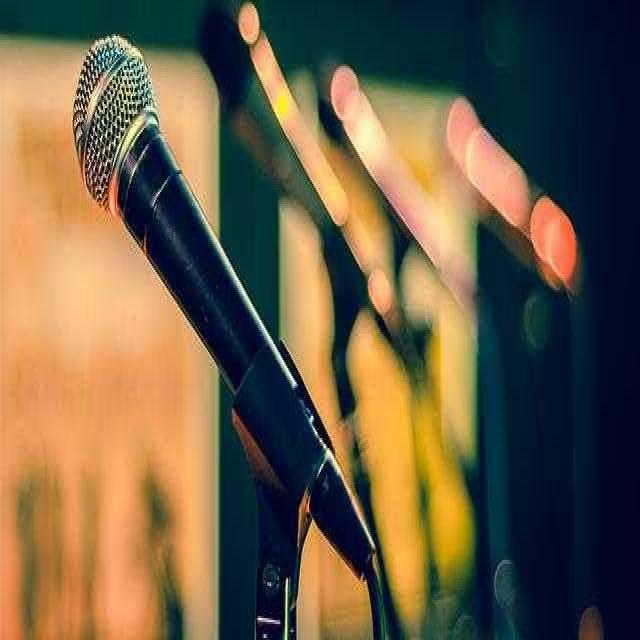microphone: (74, 28, 387, 634), (198, 4, 360, 286)
